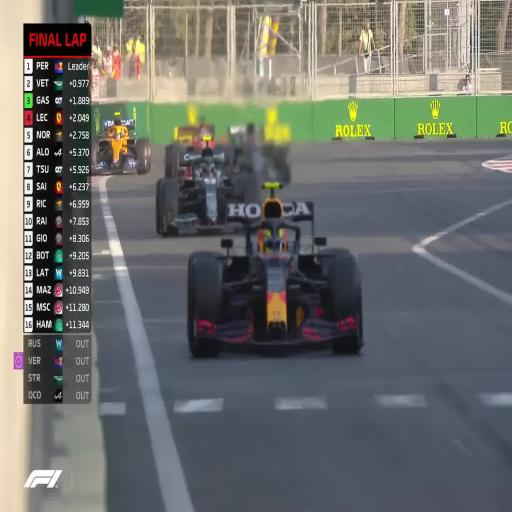f1_car: (187, 193, 362, 357), (156, 146, 235, 236), (227, 123, 291, 184), (91, 112, 150, 174), (264, 184, 273, 188), (205, 137, 208, 142), (276, 184, 279, 186)
